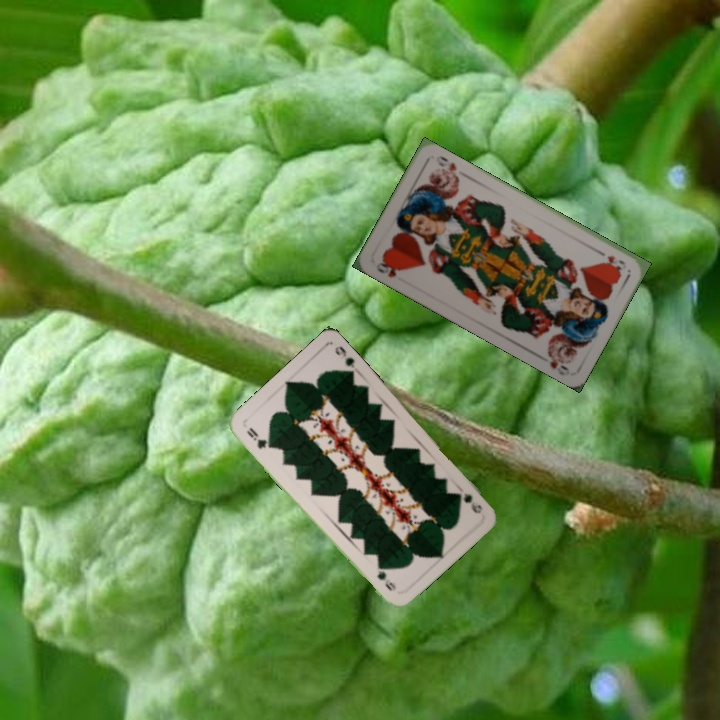G9: (242, 423, 273, 452), (453, 488, 485, 516)
HO: (593, 246, 629, 272), (372, 256, 403, 280)
